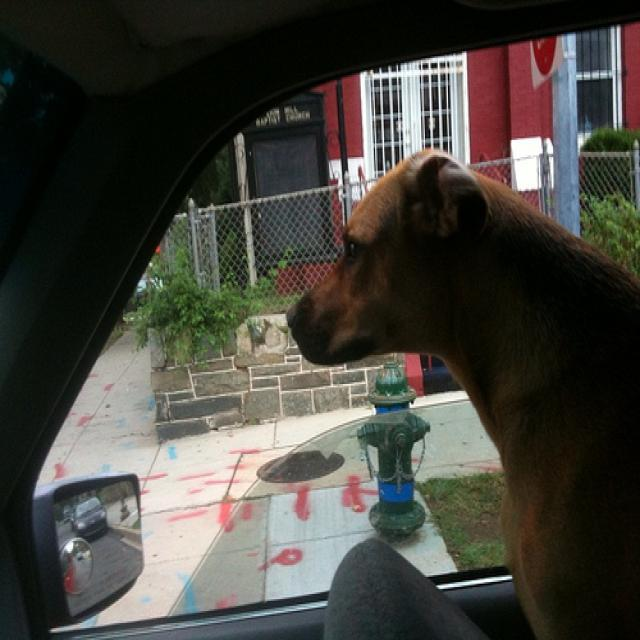fire_hydrant: (353, 357, 430, 542)
